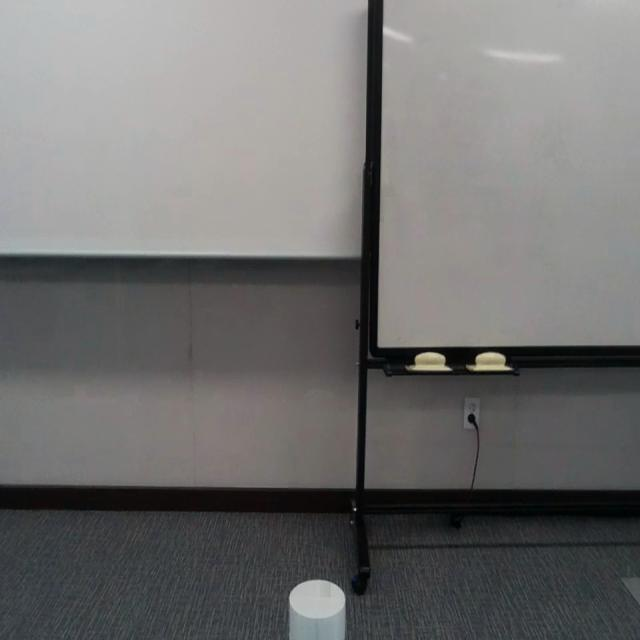cylinder: (289, 579, 346, 640)
